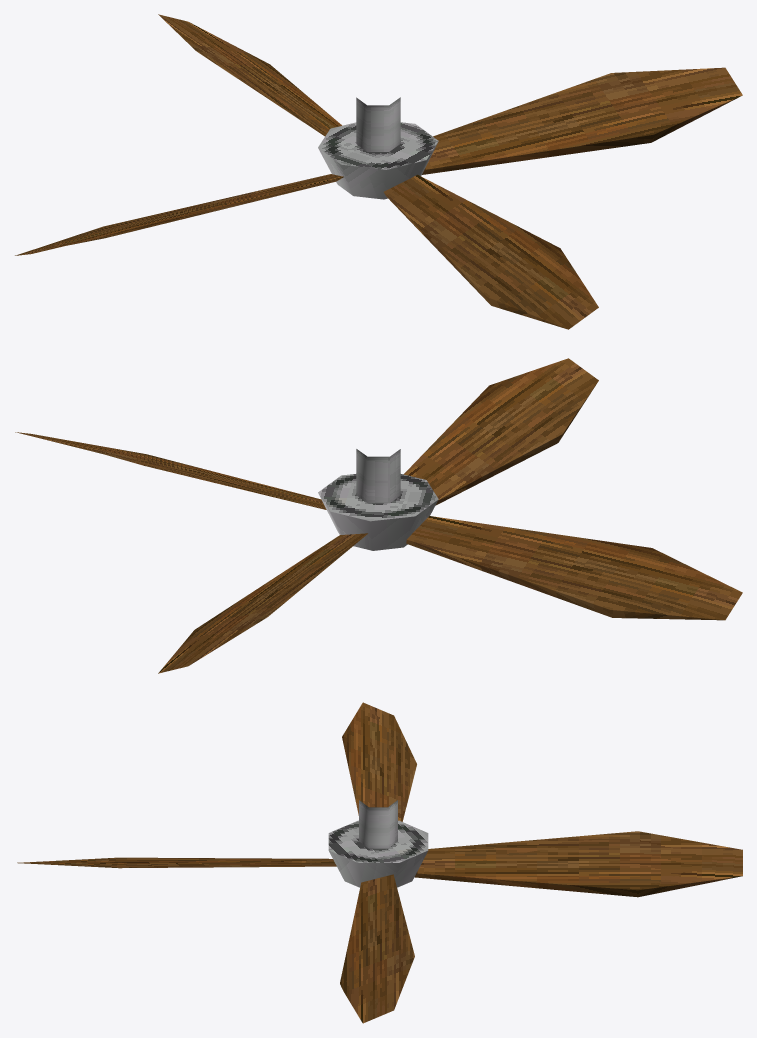
Rendered from Ceiling_Fan2.glb.
3 renders of one model, top to bottom at view 1: azimuth 30°, elevation 25°; view 2: azimuth 150°, elevation 25°; view 3: azimuth 270°, elevation 25°, orthographic. The views are drawn at different scales.
Parts seen in each view (by area): view 1: CEILING_FAN2; view 2: CEILING_FAN2; view 3: CEILING_FAN2.
Boxes of the visible parts, x1=… form: CEILING_FAN2: x1=15, y1=14, x2=742, y2=329; CEILING_FAN2: x1=15, y1=358, x2=742, y2=673; CEILING_FAN2: x1=17, y1=702, x2=742, y2=1023.
Size of the model in its own units: 1.36 by 0.17 by 1.36.
1 material, 1 textured.
